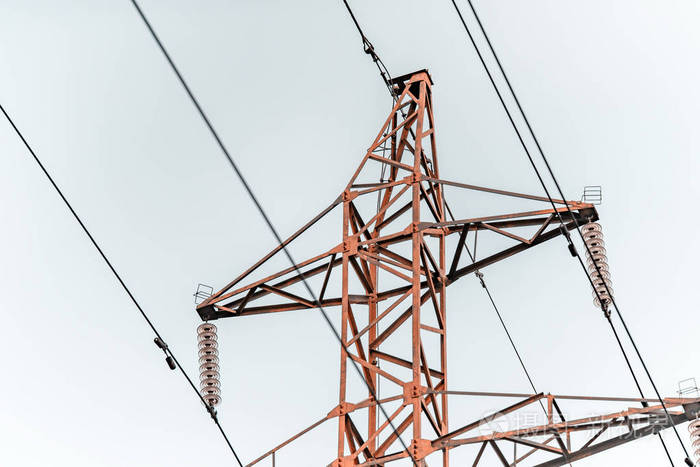insulator: (582, 222, 614, 307), (196, 323, 223, 409)
